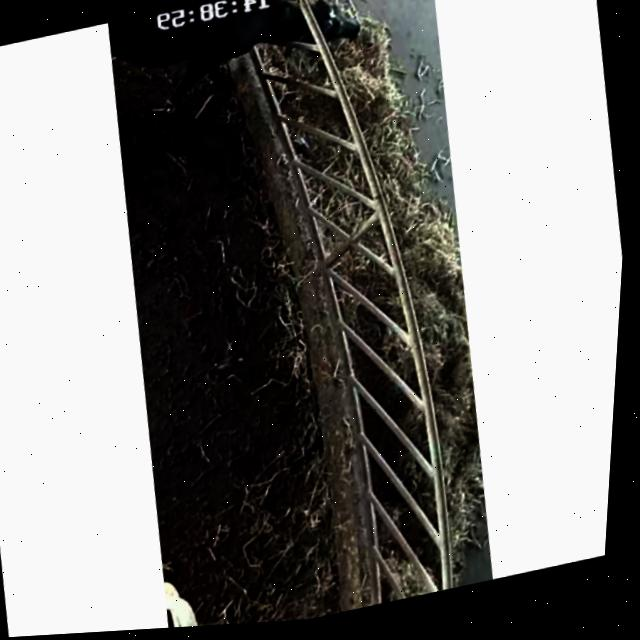eat: (151, 0, 402, 117)
